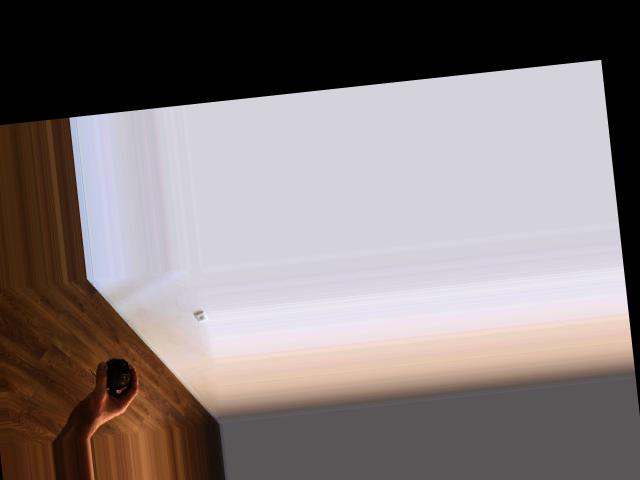beet: (89, 356, 133, 392)
